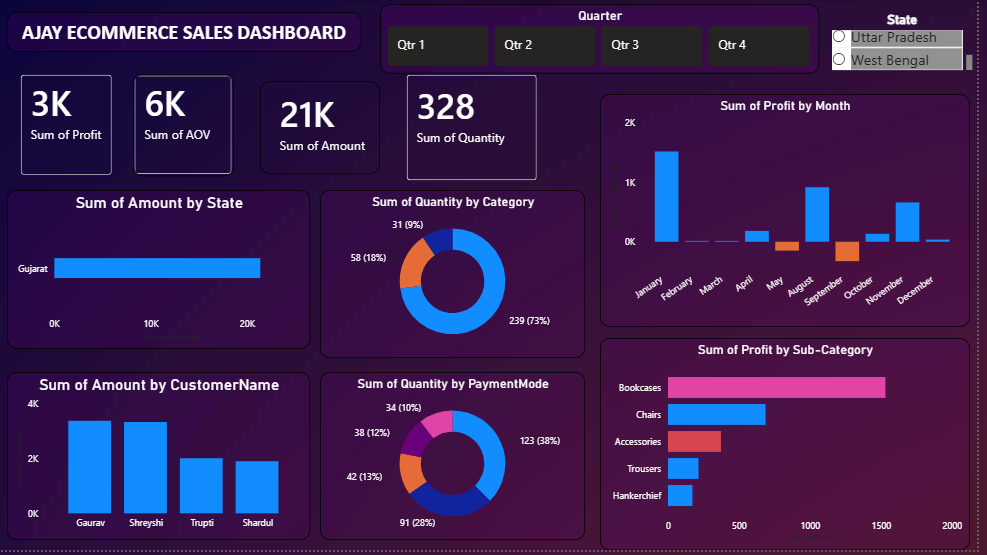

This screenshot's page, from the dashboard's own definition file:
{"tool":"powerbi","page":{"name":"Page 1","canvas":[1280,720],"ordinal":0},"visuals":[{"type":"columnChart","fields":{"Y":["Sum(Details.Profit)"],"Category":["Orders.Order Date.Variation.Date Hierarchy.Month"]},"box":[786.2,122.4,483.8,305.3],"z":0},{"type":"textbox","box":[10.1,15.8,463.7,51.8],"z":1000},{"type":"barChart","fields":{"Category":["Details.Sub-Category"],"Y":["Sum(Details.Profit)"]},"box":[786.2,442.1,483.8,277.9],"z":2000},{"type":"donutChart","fields":{"Category":["Details.Category"],"Y":["Sum(Details.Quantity)"]},"box":[420.5,249.1,347,220.3],"z":3000},{"type":"donutChart","fields":{"Category":["Details.PaymentMode"],"Y":["Sum(Details.Quantity)"]},"box":[420.5,486.7,347,220.3],"z":4000},{"type":"cardVisual","fields":{"Data":["Sum(Details.Amount)"]},"box":[341.6,106.5,157.3,121.7],"z":5000},{"type":"cardVisual","fields":{"Data":["Sum(Details.Quantity)"]},"box":[532.6,96.4,172.5,140.3],"z":6000},{"type":"cardVisual","fields":{"Data":["Sum(Details.Profit)"]},"box":[27.1,96.4,121.7,133.6],"z":7000},{"type":"cardVisual","fields":{"Data":["Sum(Details.AOV)"]},"box":[175.9,96.4,131.9,133.6],"z":8000},{"type":"barChart","fields":{"Category":["Orders.State"],"Y":["Sum(Details.Amount)"]},"box":[10.1,248.6,397.4,208],"z":9000},{"type":"columnChart","fields":{"Category":["Orders.CustomerName"],"Y":["Sum(Details.Amount)"]},"box":[10,487,397,220],"z":10000},{"type":"advancedSlicerVisual","fields":{"Values":["Orders.Order Date.Variation.Date Hierarchy.Quarter"]},"box":[498.8,5.1,574.9,91.3],"z":10001}]}

Visuals, with their boxes in screenshot pixels (x1, y1, x2, y2), scaled from the page's 1280x720 canvas onto the 987x555 screenshot:
columnChart - Sum(Details.Profit) x Orders.Order Date.Variation.Date Hierarchy.Month: select_region(606, 94, 979, 330)
textbox: select_region(8, 12, 365, 52)
barChart - Details.Sub-Category x Sum(Details.Profit): select_region(606, 341, 979, 554)
donutChart - Details.Category x Sum(Details.Quantity): select_region(324, 192, 592, 362)
donutChart - Details.PaymentMode x Sum(Details.Quantity): select_region(324, 375, 592, 545)
cardVisual - Sum(Details.Amount): select_region(263, 82, 385, 176)
cardVisual - Sum(Details.Quantity): select_region(411, 74, 544, 182)
cardVisual - Sum(Details.Profit): select_region(21, 74, 115, 177)
cardVisual - Sum(Details.AOV): select_region(136, 74, 237, 177)
barChart - Orders.State x Sum(Details.Amount): select_region(8, 192, 314, 352)
columnChart - Orders.CustomerName x Sum(Details.Amount): select_region(8, 375, 314, 545)
advancedSlicerVisual - Orders.Order Date.Variation.Date Hierarchy.Quarter: select_region(385, 4, 828, 74)
